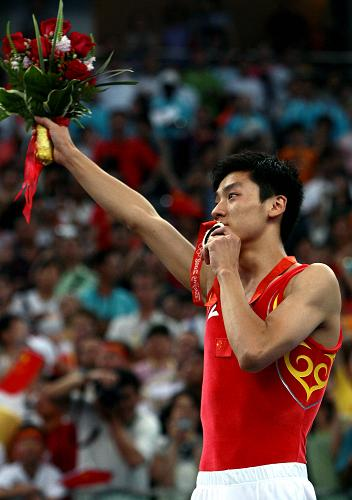face: (211, 167, 265, 249)
